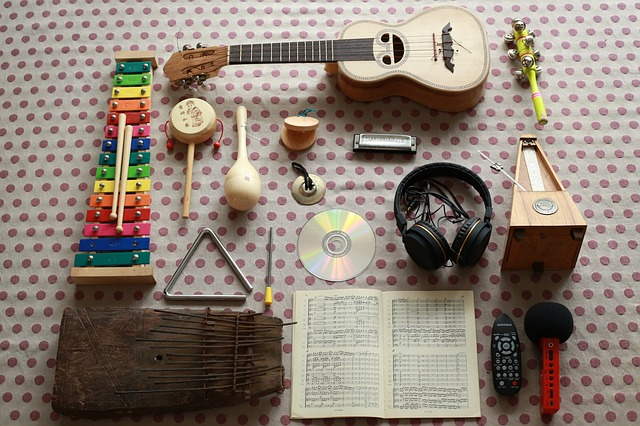headphones: (393, 163, 493, 272)
